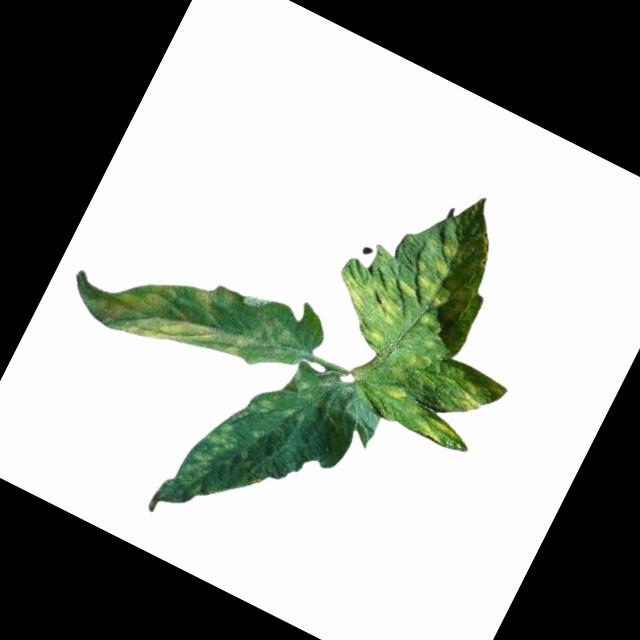Leaf_Mold: (309, 153, 582, 428), (85, 237, 271, 390), (170, 409, 250, 507), (401, 402, 462, 451)
